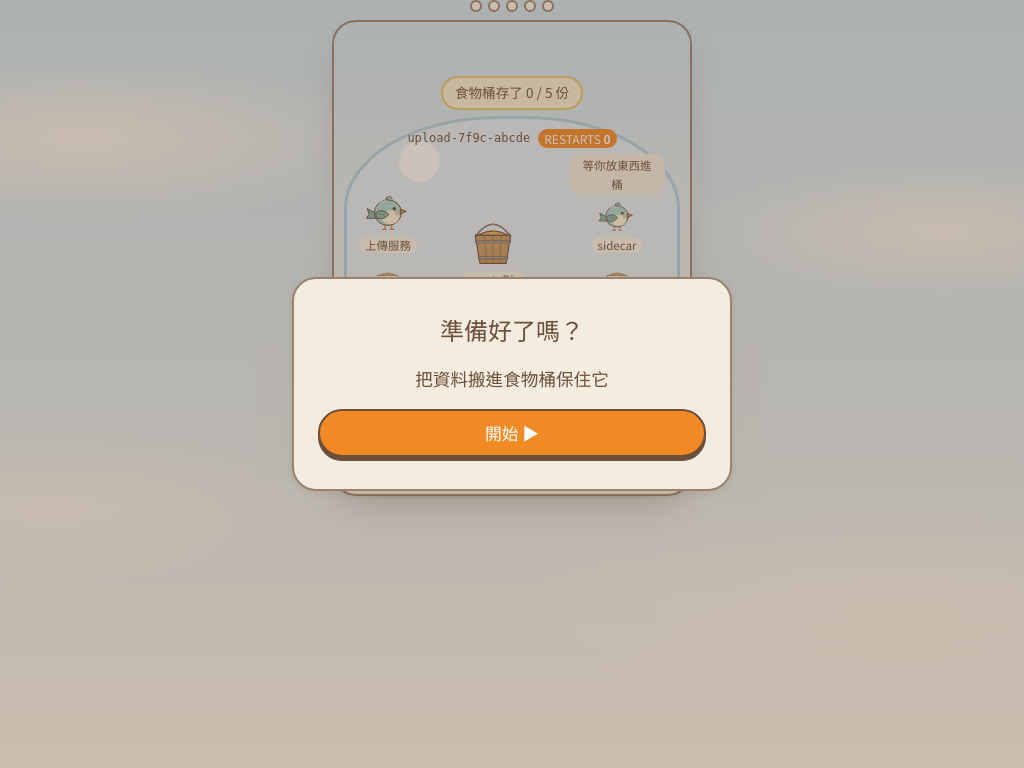
Day21Game › 沒有倒數；猜錯兩次正解會閃；容器重啟清空肚子、食物桶不動、泡泡名字不變
The width and height of the screenshot is (1024, 768).
Click the button with test id "shell-start".
click(512, 433)  # box [318,409,706,457]
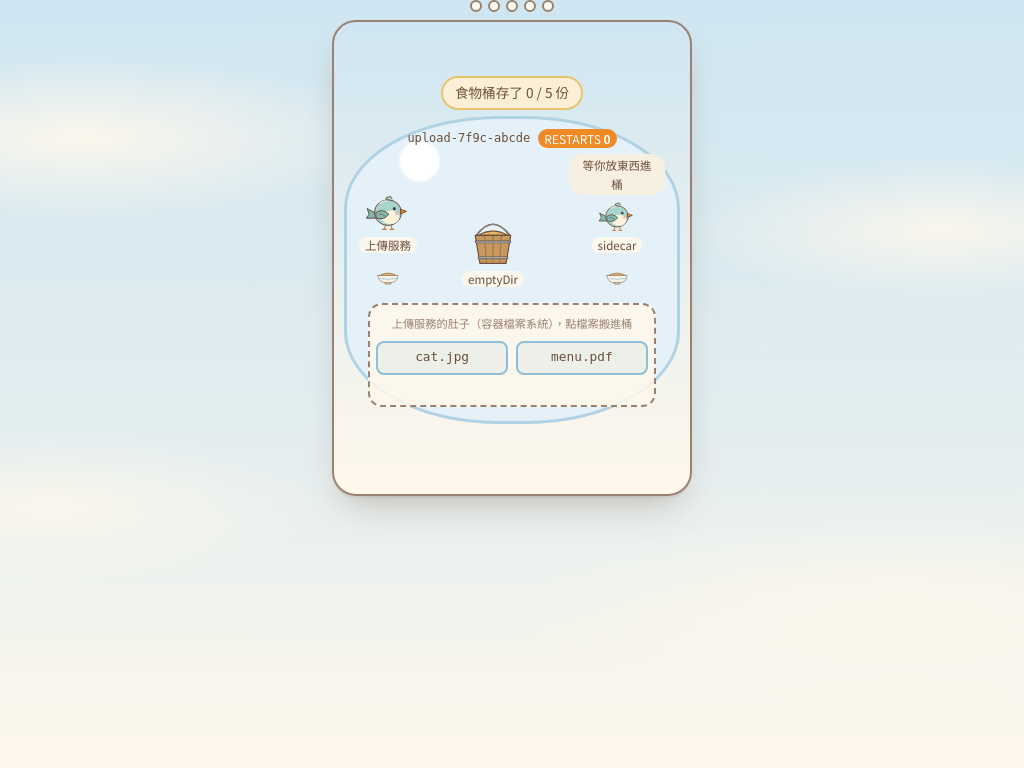
Click the button "cat.jpg".
click(442, 358)  # box [376,341,508,375]
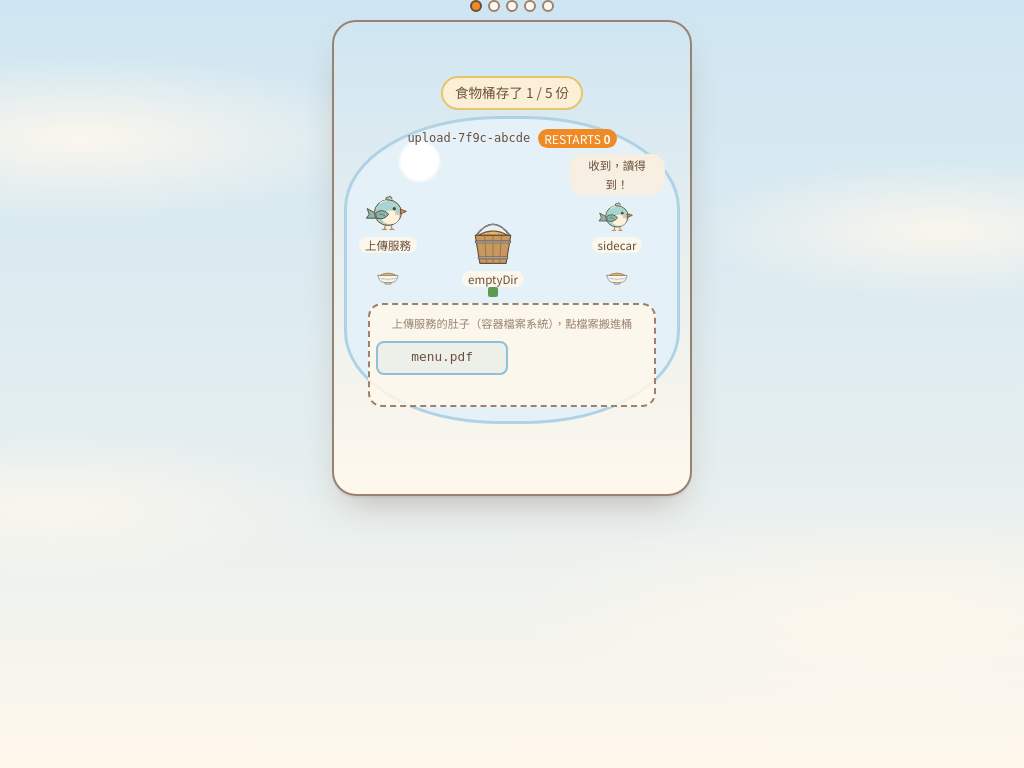
Click the button "menu.pdf".
click(442, 358)  # box [376,341,508,375]
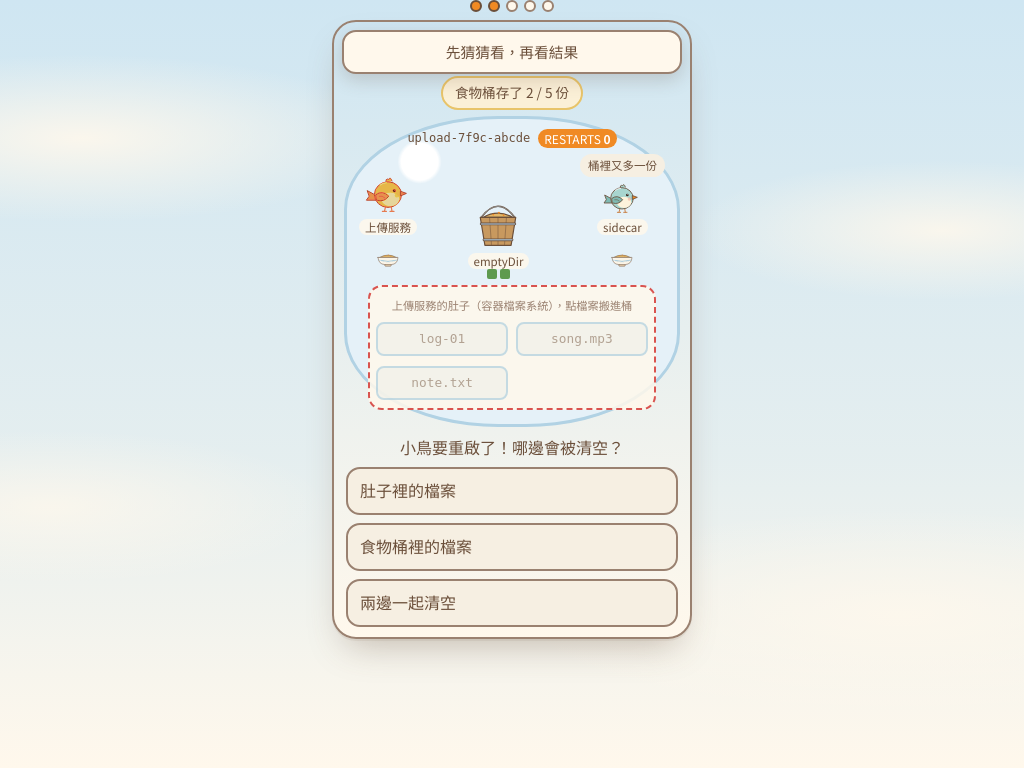
Expected: the button "log-01" is disabled, [376,322,508,356]
Click the button "食物桶裡的檔案".
click(416, 546)  # box [346,523,678,571]
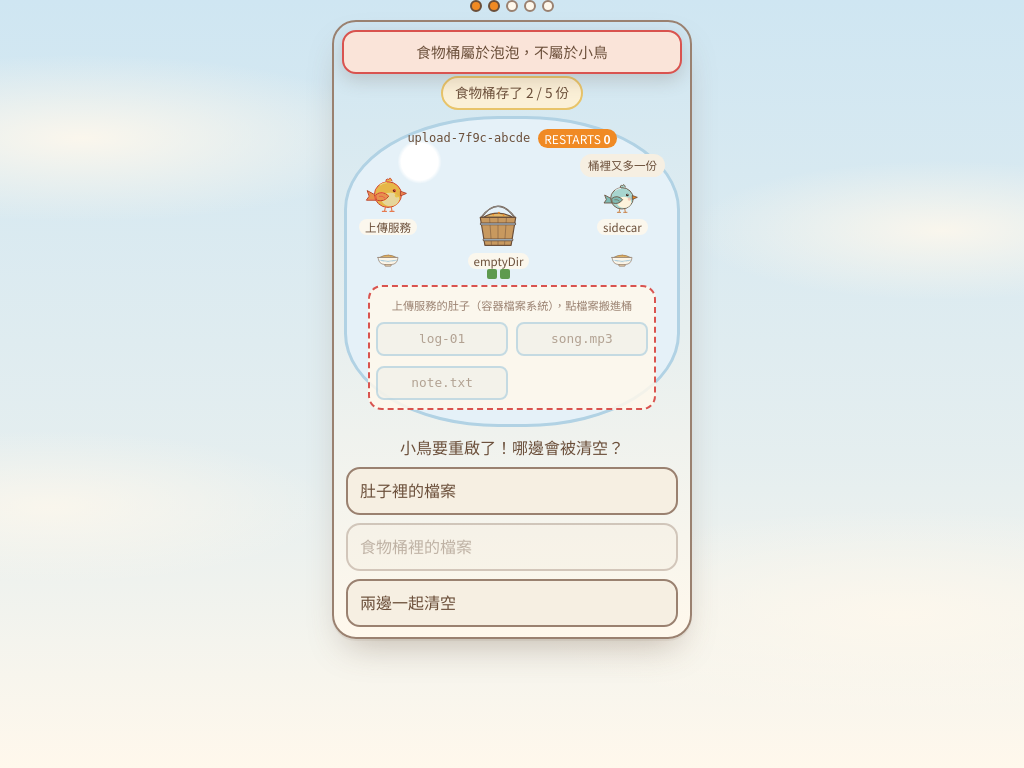
Click the button "兩邊一起清空".
click(408, 602)  # box [346,579,678,627]
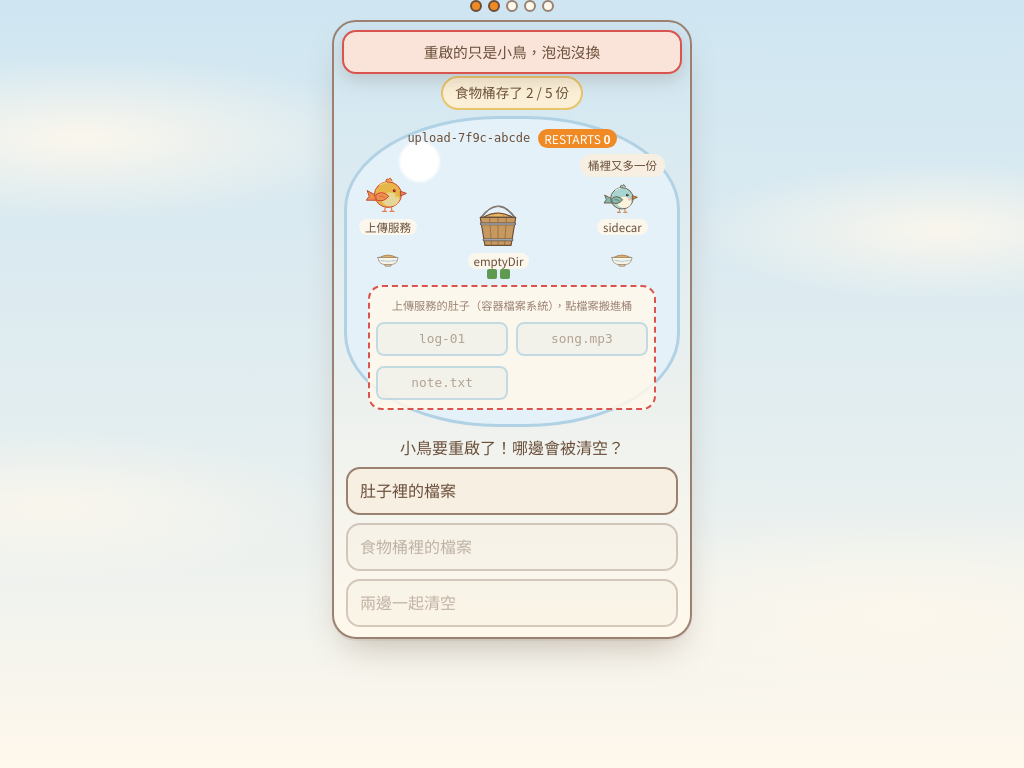
Expected: the element with class "is-stuck" is shown, [346,435,678,627]
Click the button "肚子裡的檔案".
click(408, 490)  # box [346,467,678,515]
Wait 1400 ms
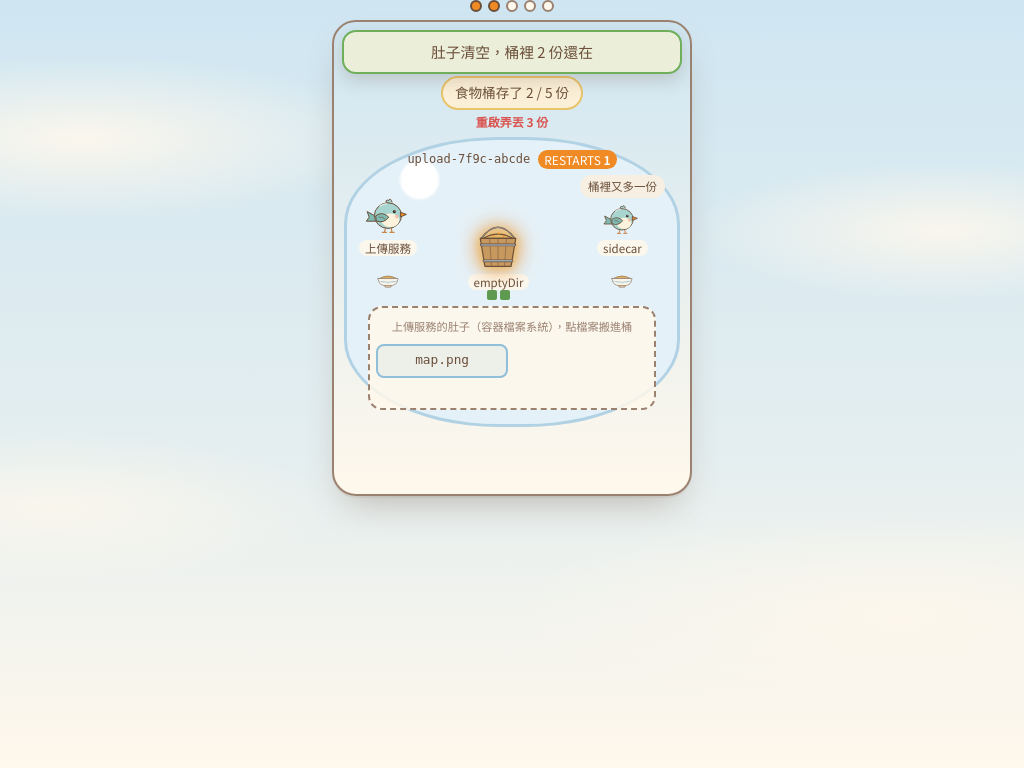
Expected: the button with test id "bucket" reads "食物桶存了 2 / 5 份", [441,76,583,110]
Expected: the text with test id "restarts" reads "1", [604,151,611,168]
Expected: the text with test id "lost" shows "弄丟", [476,112,548,131]
